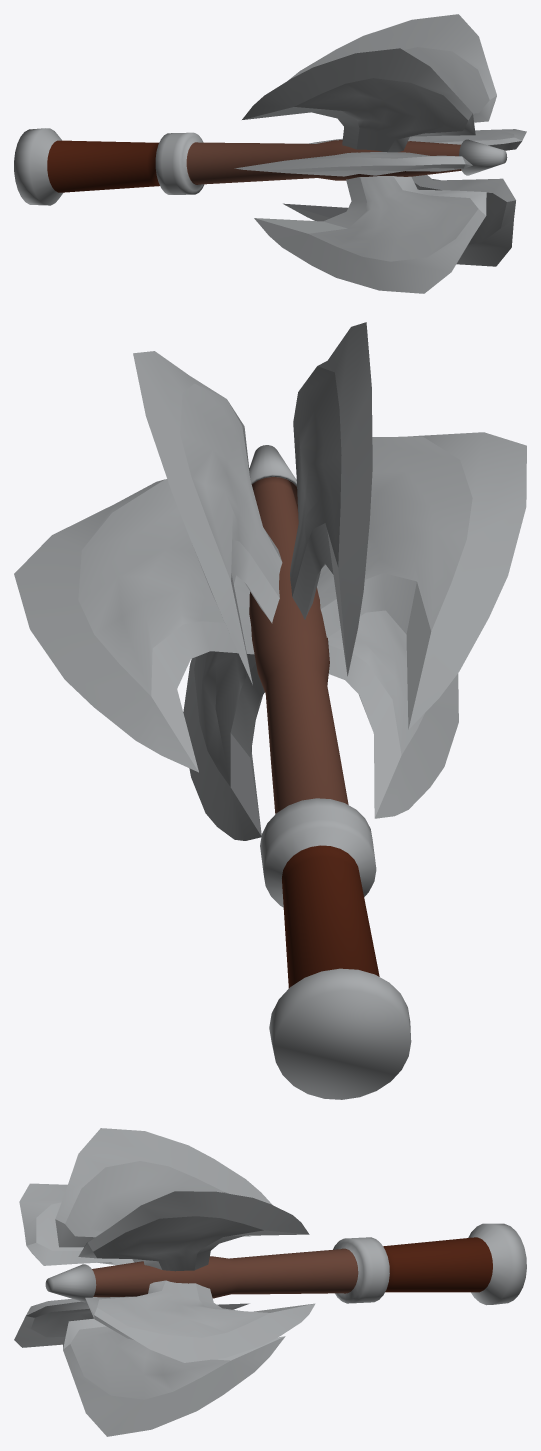
The model's file is bs-mace.fbx.
3 views of the same model, one above another, from view 1: azimuth 30°, elevation 25°; view 2: azimuth 150°, elevation 25°; view 3: azimuth 270°, elevation 25° (orthographic). The views are drawn at different scales.
Visible parts, largest first — view 1: metal_base_low.005; view 2: metal_base_low.005; view 3: metal_base_low.005.
Part boxes in pixels (<box>): metal_base_low.005: <box>14,14,526,293</box>; metal_base_low.005: <box>14,322,526,1099</box>; metal_base_low.005: <box>14,1128,526,1436</box>.
Size of the model in its own units: 100 by 66.91 by 118.
